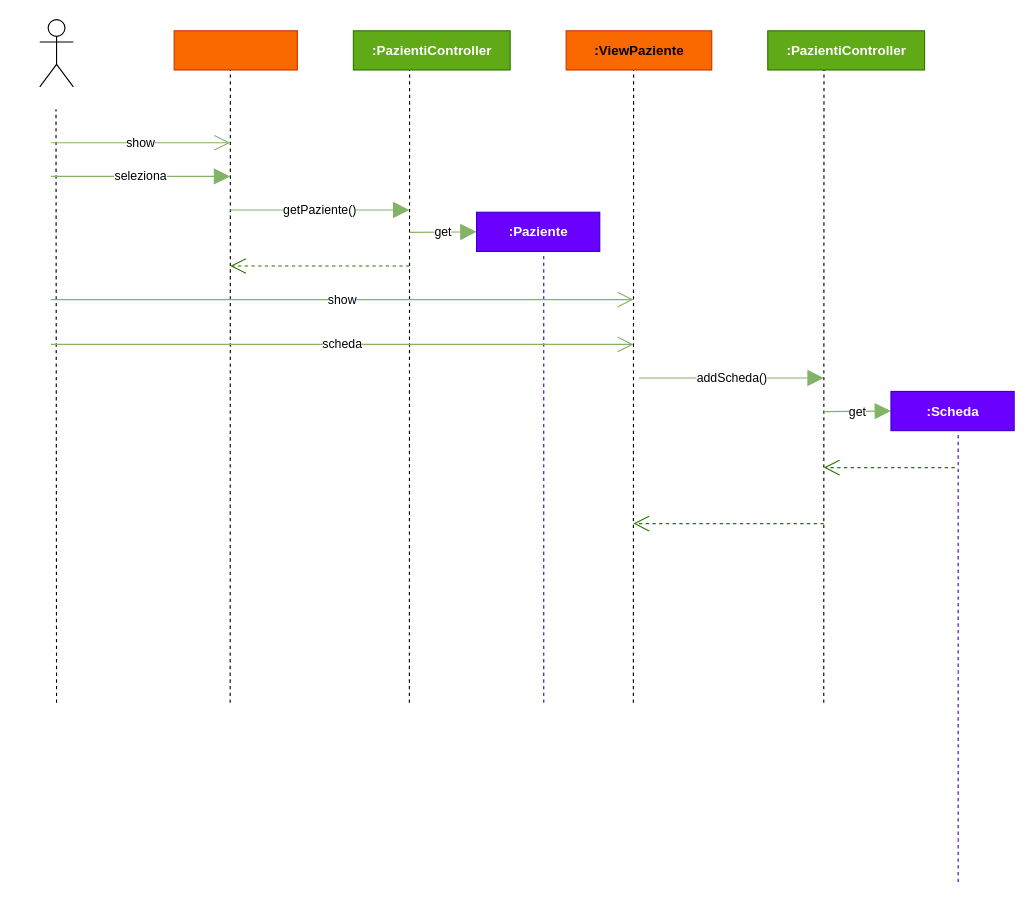
Image size: 1034x903. Some labels were removed from this diagram. Here are the shapes that lost their labels. From the top down, the centre of each, then its label:
At point 56,52: "Nutrizionista".
At point 235,50: ":ViewPazienti".
